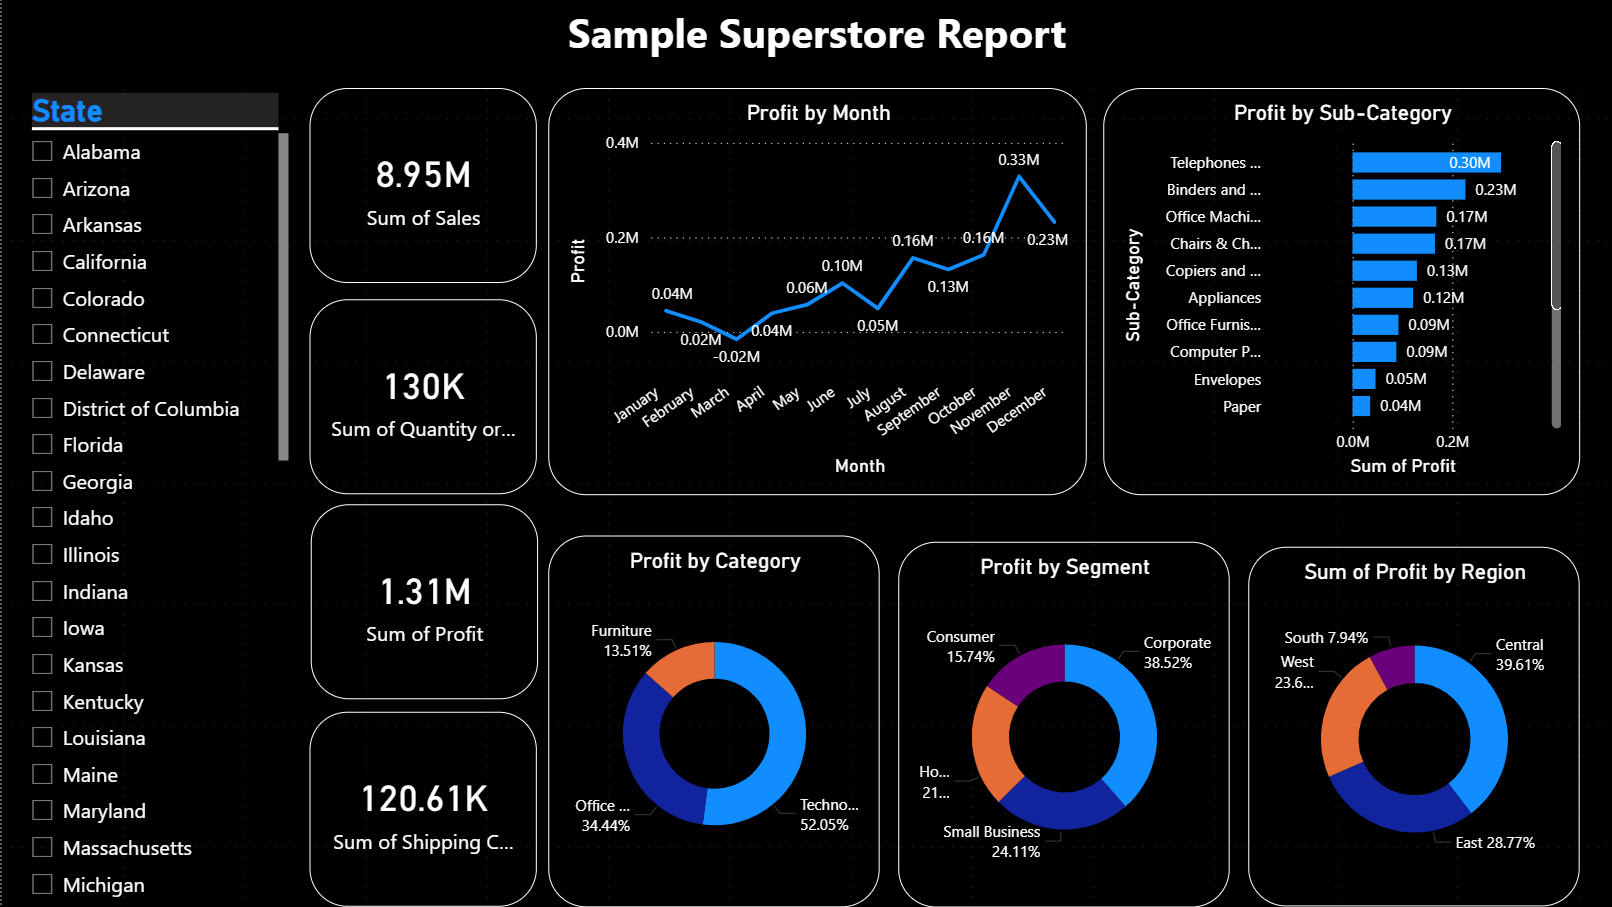

The page's visual inventory and layout, read from the dashboard file:
{"tool":"powerbi","page":{"name":"Page 1","canvas":[1280,720],"ordinal":0},"visuals":[{"type":"textbox","box":[10.5,0,1269,70.4],"z":0},{"type":"lineChart","title":"Profit by Month","fields":{"Y":["Sum(Orders.Profit)"],"Category":["Orders.Order Date.Variation.Date Hierarchy.Month"]},"box":[432.6,70.9,426.7,322.1],"z":1000},{"type":"barChart","title":"Profit by Sub-Category","fields":{"Category":["Orders.Sub-Category"],"Y":["Sum(Orders.Profit)"]},"box":[872.1,70.9,377.9,322.1],"z":2000},{"type":"card","fields":{"Values":["Sum(Orders.Sales)"]},"box":[243,70.9,180.2,154.7],"z":3000},{"type":"card","fields":{"Values":["Sum(Orders.Quantity ordered new)"]},"box":[243,238.4,180.2,154.7],"z":4000},{"type":"card","fields":{"Values":["Sum(Orders.Profit)"]},"box":[244.2,401.2,180.2,154.7],"z":5000},{"type":"card","fields":{"Values":["Sum(Orders.Shipping Cost)"]},"box":[243,565.1,180.2,154.7],"z":6000},{"type":"donutChart","title":"Profit by Category","fields":{"Category":["Orders.Category"],"Y":["Sum(Orders.Profit)"]},"box":[432.6,425.6,262.8,294.2],"z":7000},{"type":"donutChart","title":"Profit by Segment","fields":{"Category":["Orders.Customer Segment"],"Y":["Sum(Orders.Profit)"]},"box":[709.3,430.2,262.8,289.5],"z":8000},{"type":"donutChart","fields":{"Category":["Orders.Region"],"Y":["Sum(Orders.Profit)"]},"box":[987.2,434.9,262.8,284.9],"z":9000},{"type":"slicer","fields":{"Values":["Orders.State or Province"]},"box":[10.5,70.4,220.8,648.7],"z":10000}]}

Visuals, with their boxes in screenshot pixels (x1, y1, x2, y2), scaled from the page's 1280x720 canvas onto the 1612x907 screenshot:
textbox: [left=13, top=0, right=1611, bottom=89]
"Profit by Month" lineChart: [left=545, top=89, right=1082, bottom=495]
"Profit by Sub-Category" barChart: [left=1098, top=89, right=1574, bottom=495]
card - Sum(Orders.Sales): [left=306, top=89, right=533, bottom=284]
card - Sum(Orders.Quantity ordered new): [left=306, top=300, right=533, bottom=495]
card - Sum(Orders.Profit): [left=308, top=505, right=534, bottom=700]
card - Sum(Orders.Shipping Cost): [left=306, top=712, right=533, bottom=906]
"Profit by Category" donutChart: [left=545, top=536, right=876, bottom=906]
"Profit by Segment" donutChart: [left=893, top=542, right=1224, bottom=906]
donutChart - Orders.Region x Sum(Orders.Profit): [left=1243, top=548, right=1574, bottom=906]
slicer - Orders.State or Province: [left=13, top=89, right=291, bottom=906]
